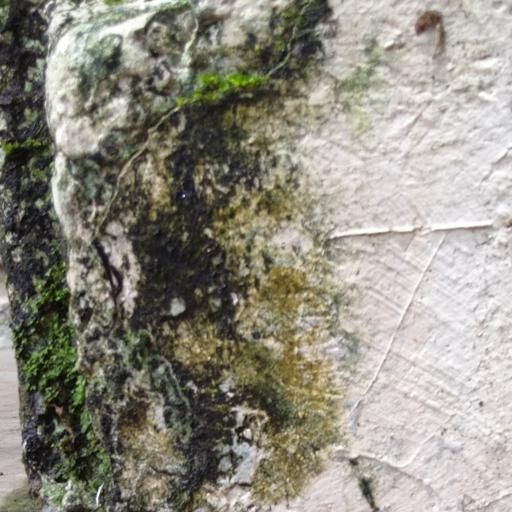algae: (0, 0, 406, 492)
